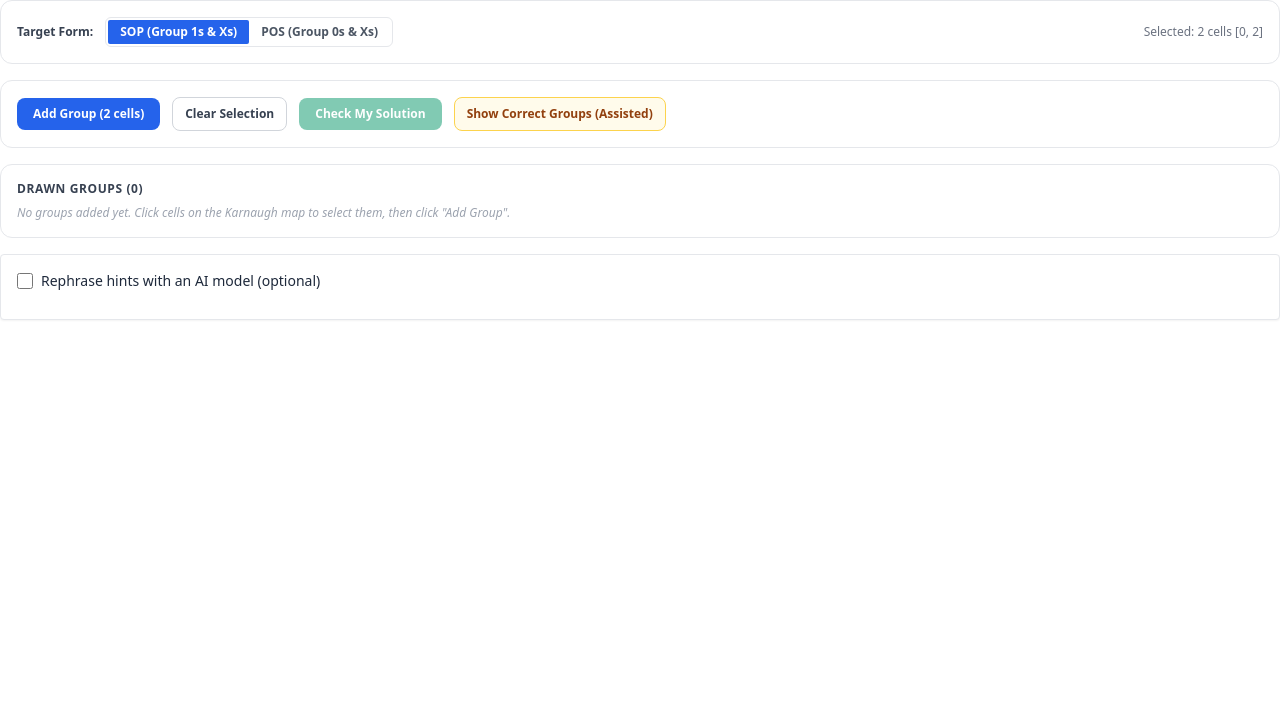
Test: StudentModePanel › diagnoses non-maximal edge cells needing wrap with forgot-wraparound-grouping
Click the button "Add Group (2 cells)" at x=89, y=114, box [17,98,160,130]
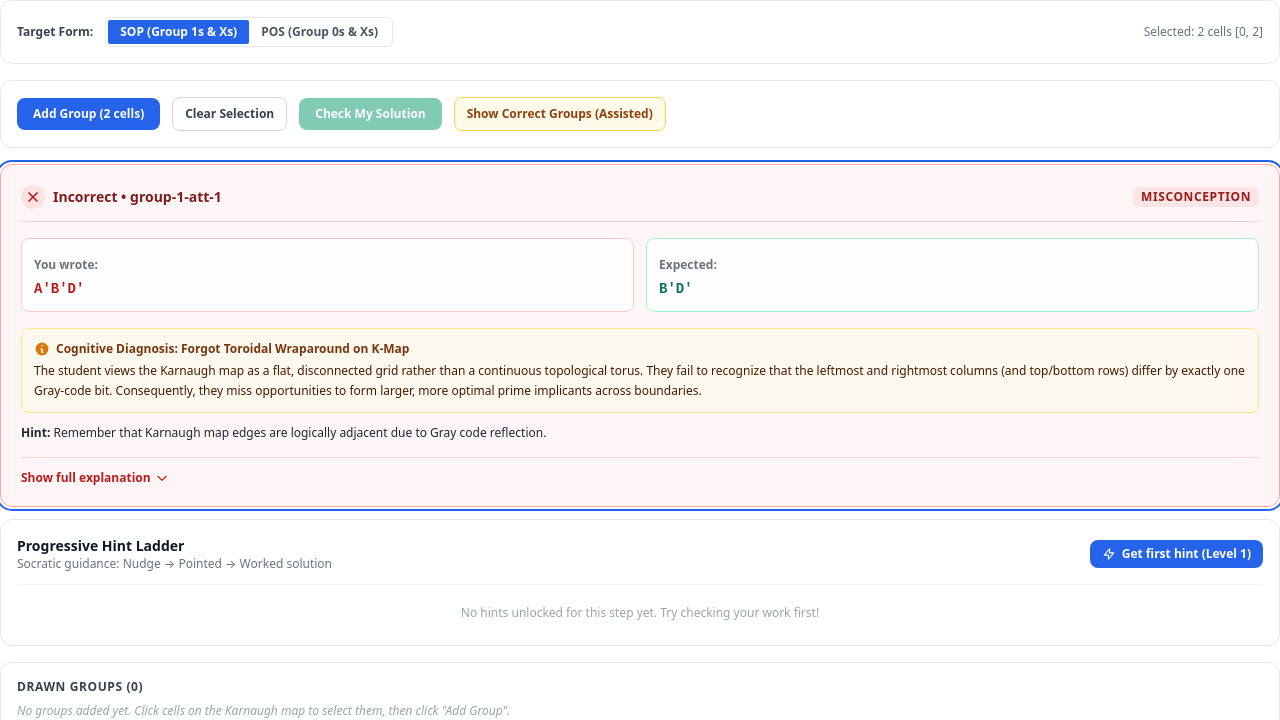
Result: the text "Cognitive Diagnosis: Forgot Toroidal Wraparound on K-Map" is shown at [34,340,409,357]
